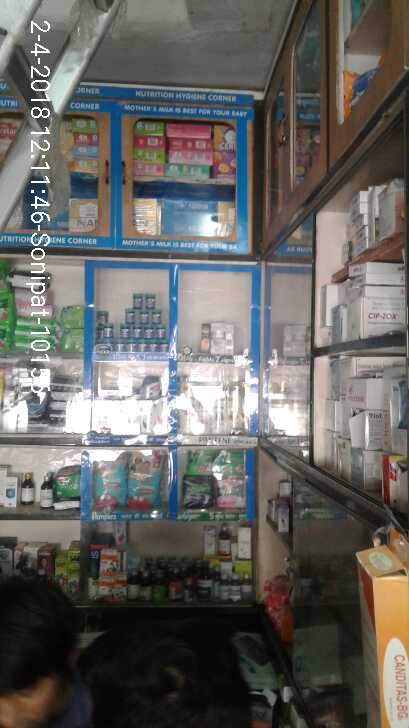vicks: (96, 283, 170, 350)
